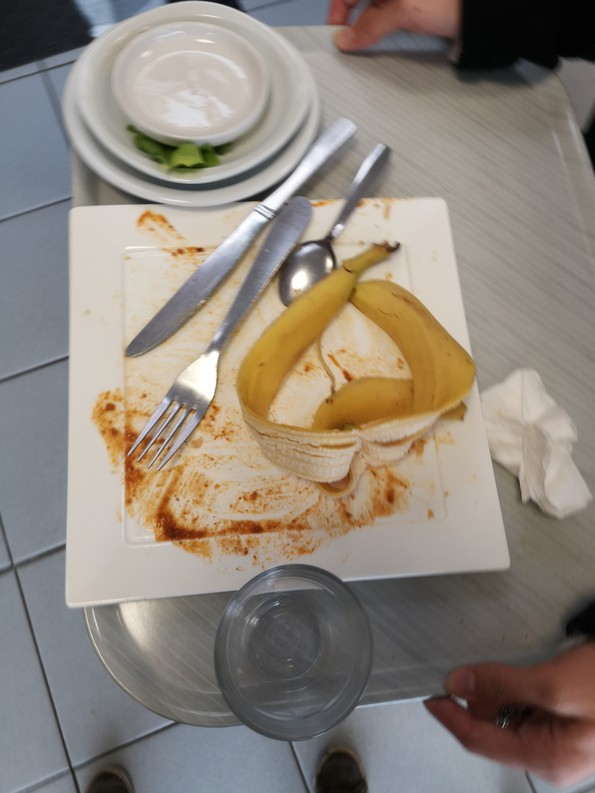cup: (212, 565, 378, 758)
cutlery: (117, 113, 369, 364), (132, 186, 317, 478), (282, 144, 394, 306)
orga: (261, 281, 447, 466)
trash: (486, 371, 587, 528)
